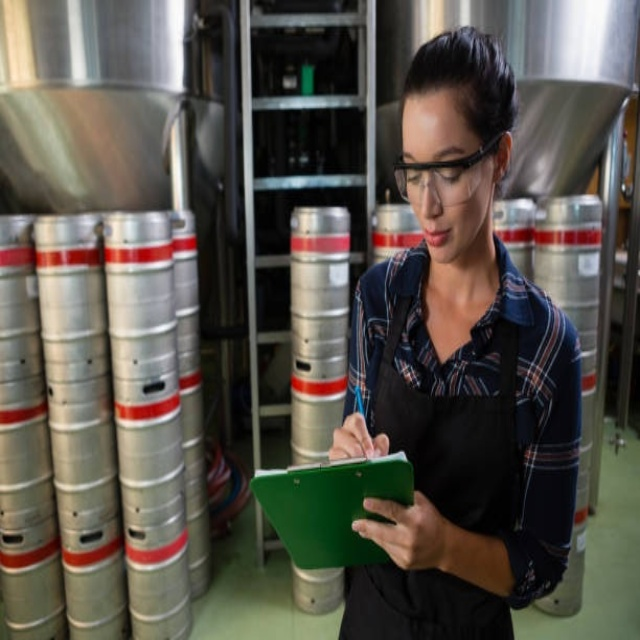Gafas: (392, 130, 507, 207)
Sin_guantes: (353, 491, 444, 575), (330, 414, 387, 464)
Sin_mascara: (416, 215, 461, 264)
